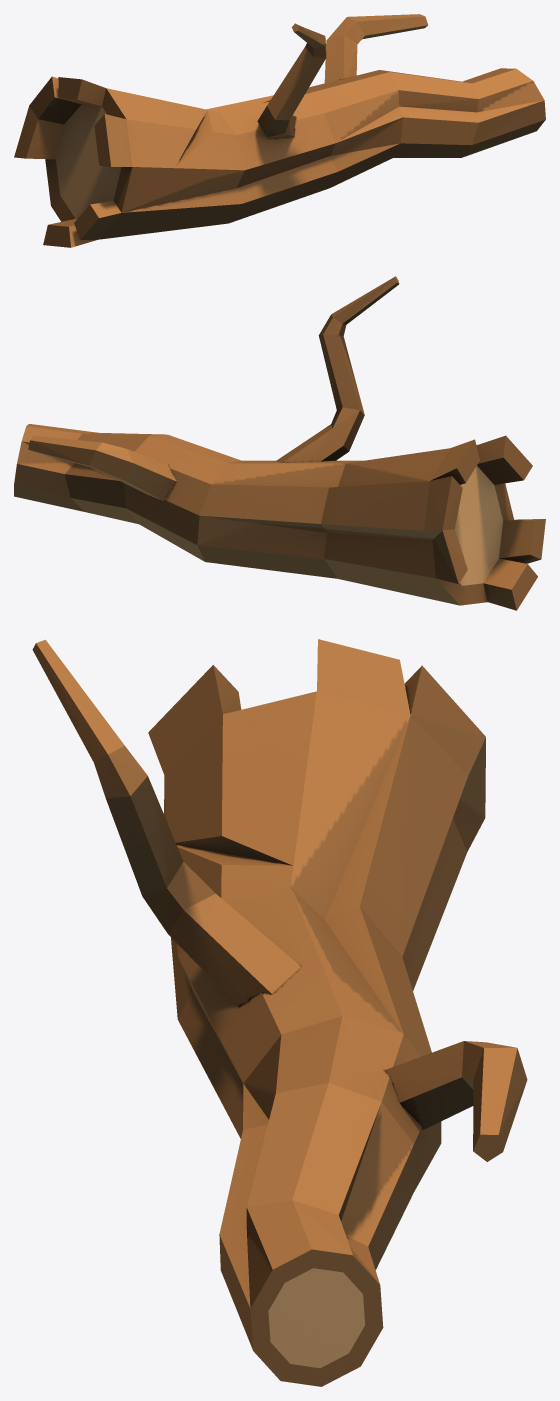
The model's file is PUSHILIN_log.gltf.
3 renders of one model, top to bottom at view 1: azimuth 30°, elevation 25°; view 2: azimuth 150°, elevation 25°; view 3: azimuth 270°, elevation 25°, orthographic. The views are drawn at different scales.
Parts seen in each view (by area): view 1: node-0; view 2: node-0; view 3: node-0.
Boxes of the visible parts, box(x1,y1,x2,y2) form: node-0: box(14, 14, 545, 247); node-0: box(14, 276, 545, 610); node-0: box(32, 639, 527, 1386).
Size of the model in its own units: 3.12 by 1.47 by 1.37.
Materials: 1 (1 with a texture image).
